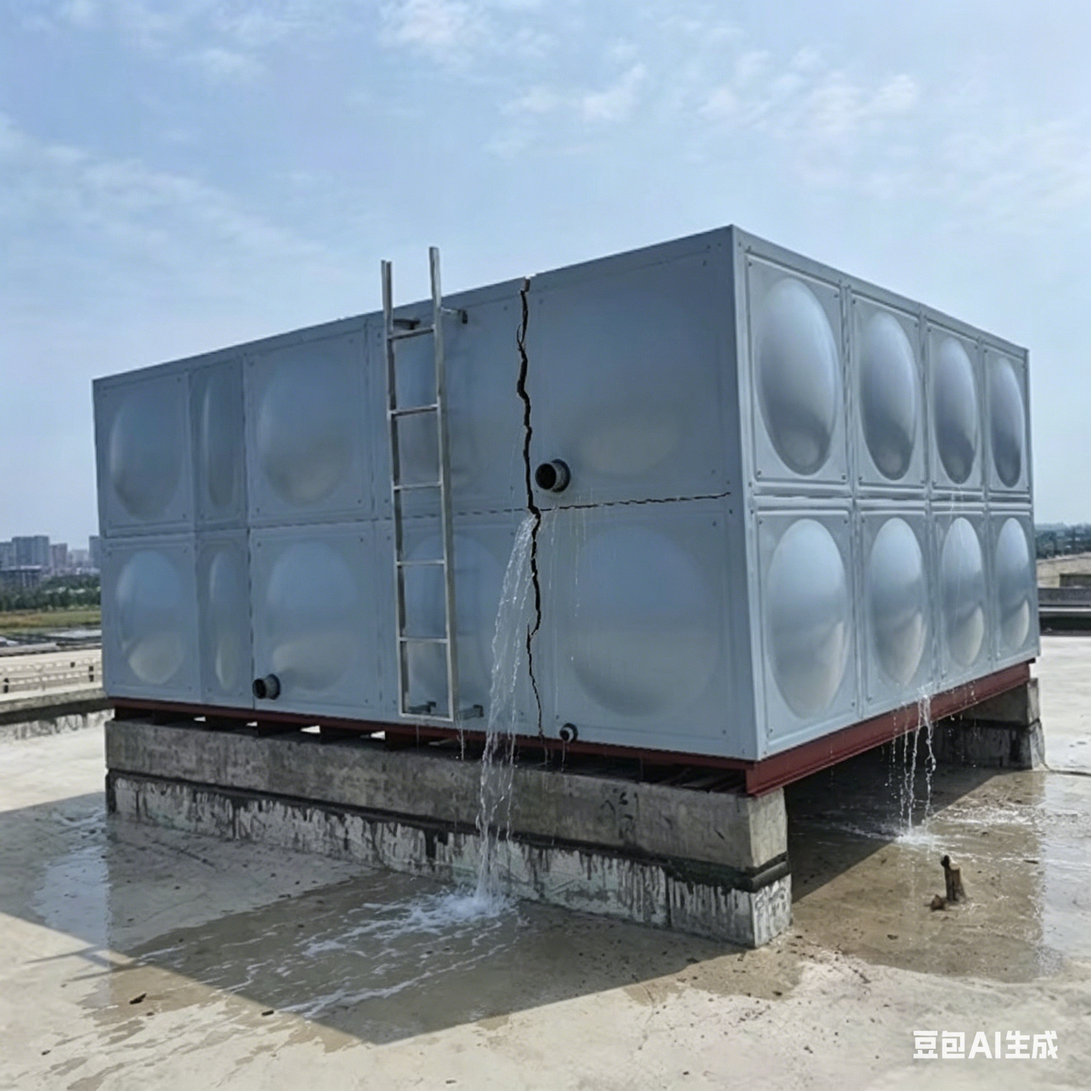Leakage: (477, 497, 566, 925), (798, 872, 1091, 977), (309, 874, 467, 987), (896, 674, 969, 876), (981, 766, 1087, 872)
